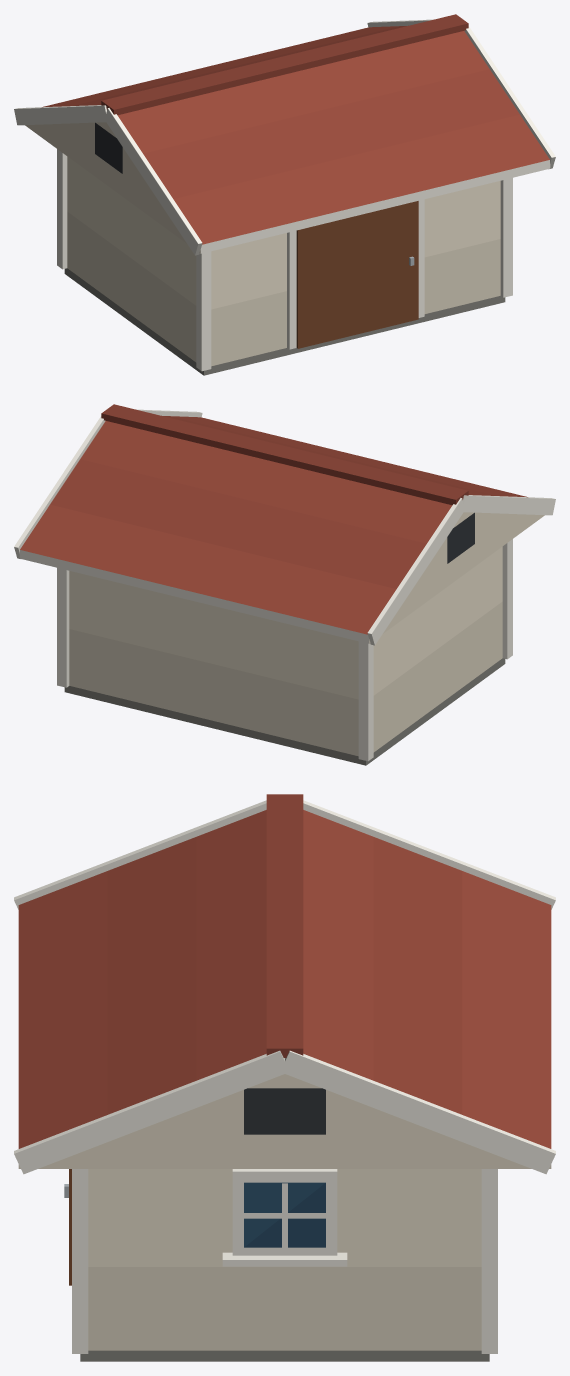
File: house_5x4.glb
3 views of the same model, one above another, from view 1: azimuth 30°, elevation 25°; view 2: azimuth 150°, elevation 25°; view 3: azimuth 270°, elevation 25° (orthographic). The views are drawn at different scales.
Parts seen in each view (by area): view 1: house; view 2: house; view 3: house.
Boxes of the visible parts, x1,y1,x2,y2 form: house: (14, 14, 555, 375); house: (14, 404, 555, 765); house: (14, 794, 555, 1361).
Bounding box in the file's own units: 5.93 × 3.58 × 5.29.
